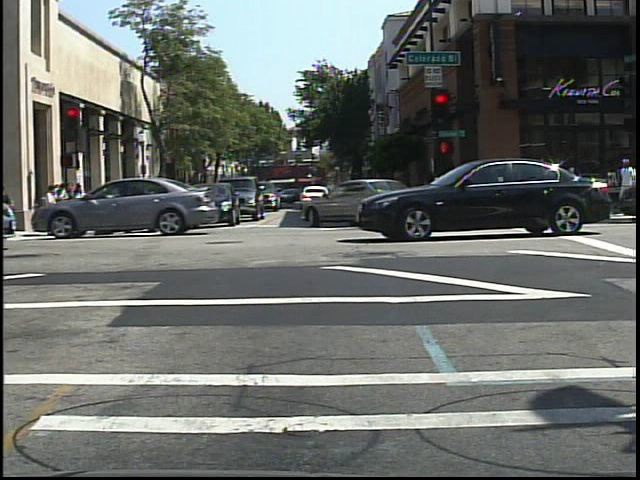person: (619, 151, 639, 207), (157, 180, 176, 218)
